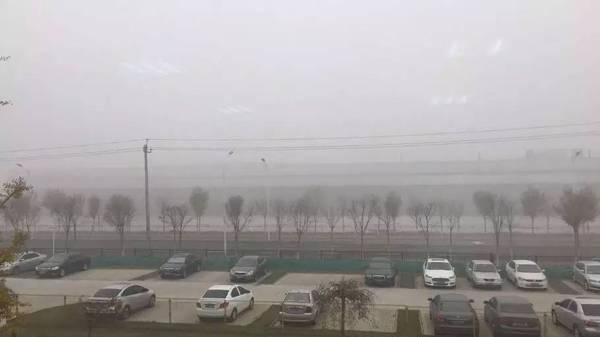car: (86, 282, 157, 321), (482, 294, 542, 337), (195, 284, 255, 324), (427, 292, 480, 337), (551, 294, 598, 337), (278, 289, 326, 326), (34, 251, 91, 279), (504, 259, 548, 292), (1, 250, 47, 278), (158, 251, 202, 279), (464, 259, 503, 290), (229, 254, 269, 284), (421, 257, 457, 289), (364, 257, 398, 288), (572, 259, 600, 291)
